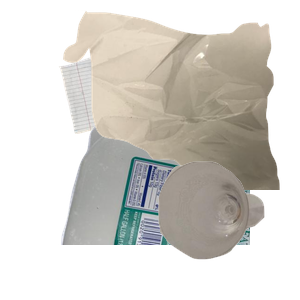glass: (156, 159, 300, 300)
paper: (56, 40, 229, 166)
plastic: (58, 120, 298, 300)
trash: (61, 10, 300, 190)
